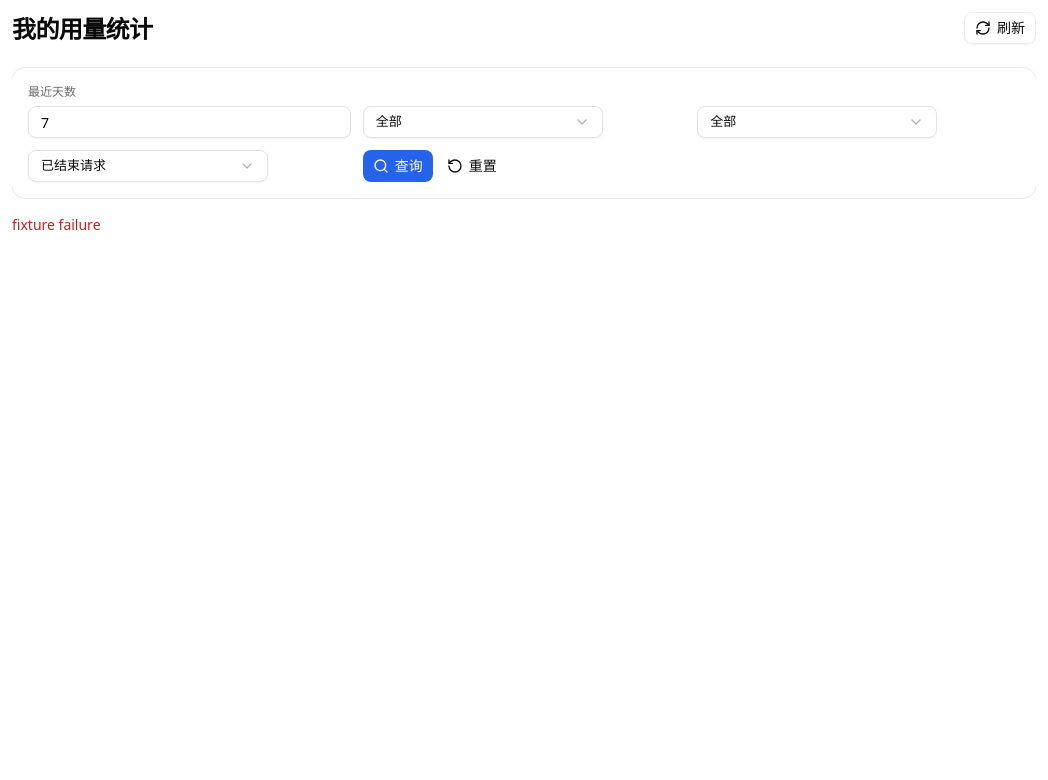
Test case: empty data has no fabricated trend and errors remain retryable
Expected: the message reads "fixture failure", [12,215,100,234]
Click the button "刷新": coordinates (1000, 28) [964,12,1036,44]
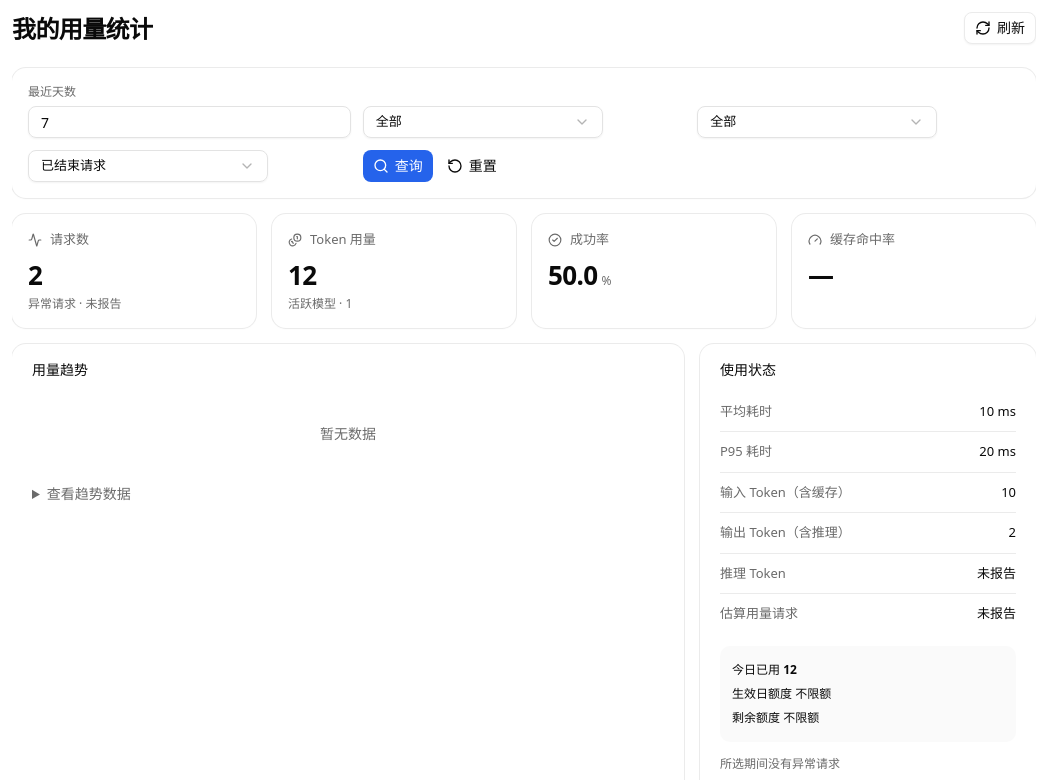
Expected: the heading "用量趋势" is shown, [32,360,88,380]
